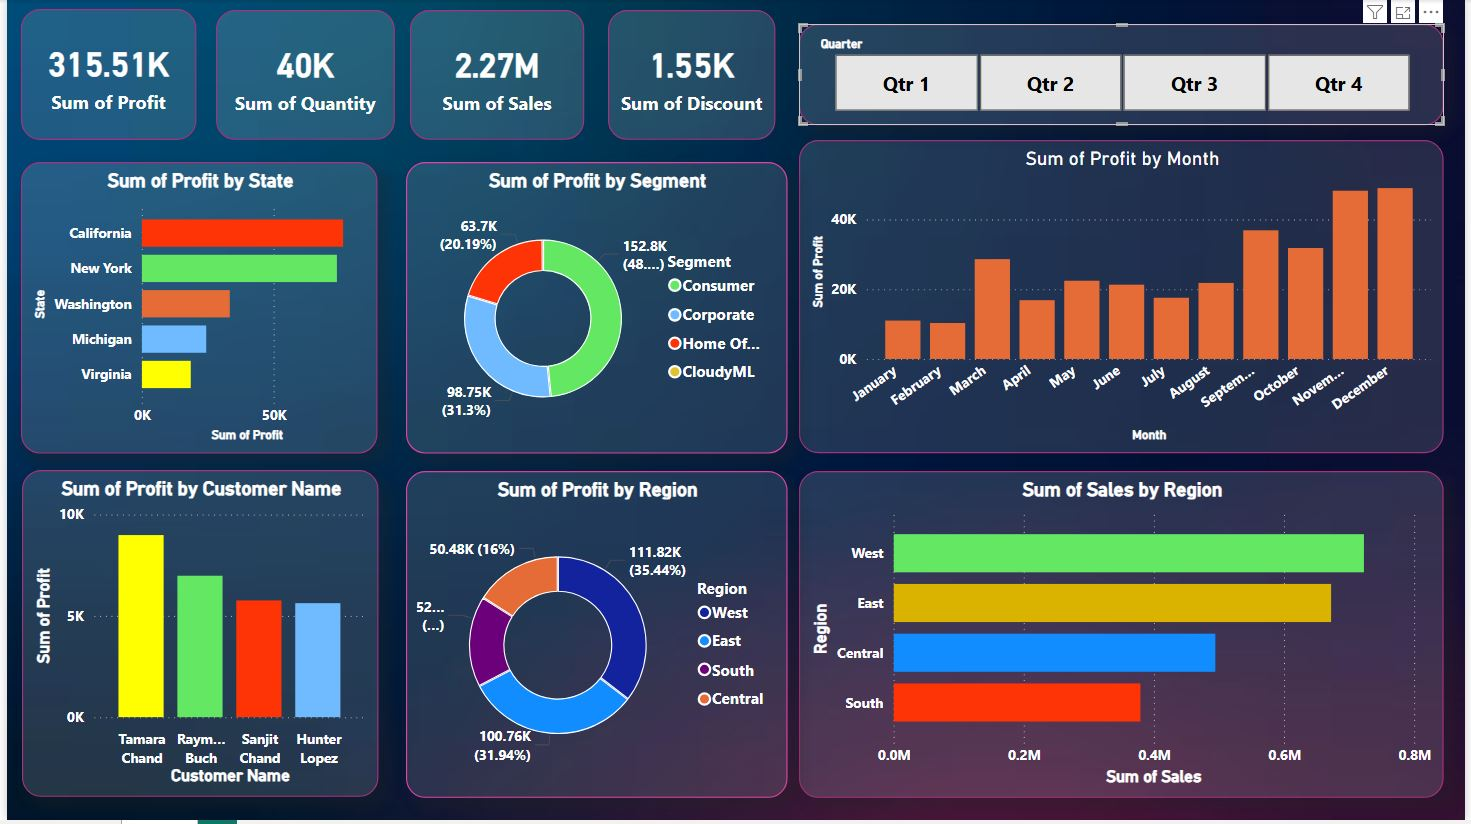

What the dashboard file says about the page in this screenshot:
{"tool":"powerbi","page":{"name":"Page 1","canvas":[1280,720],"ordinal":0},"visuals":[{"type":"columnChart","fields":{"Y":["Sum(Orders.Profit)"],"Category":["Orders.Order Date.Variation.Date Hierarchy.Month"]},"box":[695.4,122.6,566.1,275.3],"z":0},{"type":"barChart","fields":{"Category":["Orders.Region"],"Y":["Sum(Orders.Sales)"]},"box":[695.4,413.4,566.1,286.9],"z":1000},{"type":"donutChart","fields":{"Y":["Sum(Orders.Profit)"],"Category":["Orders.Region"]},"box":[350.2,413.4,334.6,286.9],"z":2000},{"type":"donutChart","fields":{"Y":["Sum(Orders.Profit)"],"Category":["Orders.Segment"]},"box":[350.2,142,334.6,255.8],"z":3000},{"type":"card","fields":{"Values":["Sum(Orders.Profit)"]},"box":[12.6,7.8,153.7,114.8],"z":4000},{"type":"card","fields":{"Values":["Sum(Orders.Quantity)"]},"box":[183.8,8.8,156.6,113.8],"z":5000},{"type":"card","fields":{"Values":["Sum(Orders.Sales)"]},"box":[354,8.8,152.7,113.8],"z":6000},{"type":"card","fields":{"Values":["Sum(Orders.Discount)"]},"box":[528.1,8.8,146.9,113.8],"z":7000},{"type":"barChart","fields":{"Category":["Orders.State"],"Y":["Sum(Orders.Profit)"]},"box":[12.6,142,313.2,255.8],"z":8000},{"type":"columnChart","fields":{"Category":["Orders.Customer Name"],"Y":["Sum(Orders.Profit)"]},"box":[13,413,313,287],"z":9000},{"type":"slicer","fields":{"Values":["Orders.Order Date.Variation.Date Hierarchy.Quarter"]},"box":[695.4,21.4,566.1,88.5],"z":10000}]}

Visuals, with their boxes in screenshot pixels (x1, y1, x2, y2), scaled from the page's 1280x720 canvas onto the 1471x824 screenshot:
columnChart - Sum(Orders.Profit) x Orders.Order Date.Variation.Date Hierarchy.Month: (799, 140, 1450, 455)
barChart - Orders.Region x Sum(Orders.Sales): (799, 473, 1450, 801)
donutChart - Sum(Orders.Profit) x Orders.Region: (402, 473, 787, 801)
donutChart - Sum(Orders.Profit) x Orders.Segment: (402, 163, 787, 455)
card - Sum(Orders.Profit): (14, 9, 191, 140)
card - Sum(Orders.Quantity): (211, 10, 391, 140)
card - Sum(Orders.Sales): (407, 10, 582, 140)
card - Sum(Orders.Discount): (607, 10, 776, 140)
barChart - Orders.State x Sum(Orders.Profit): (14, 163, 374, 455)
columnChart - Orders.Customer Name x Sum(Orders.Profit): (15, 473, 375, 801)
slicer - Orders.Order Date.Variation.Date Hierarchy.Quarter: (799, 24, 1450, 126)
